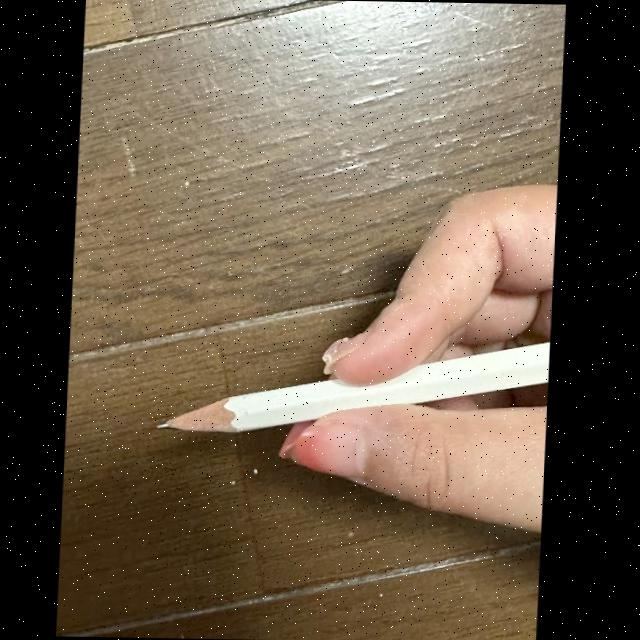pencil: (159, 342, 550, 432)
